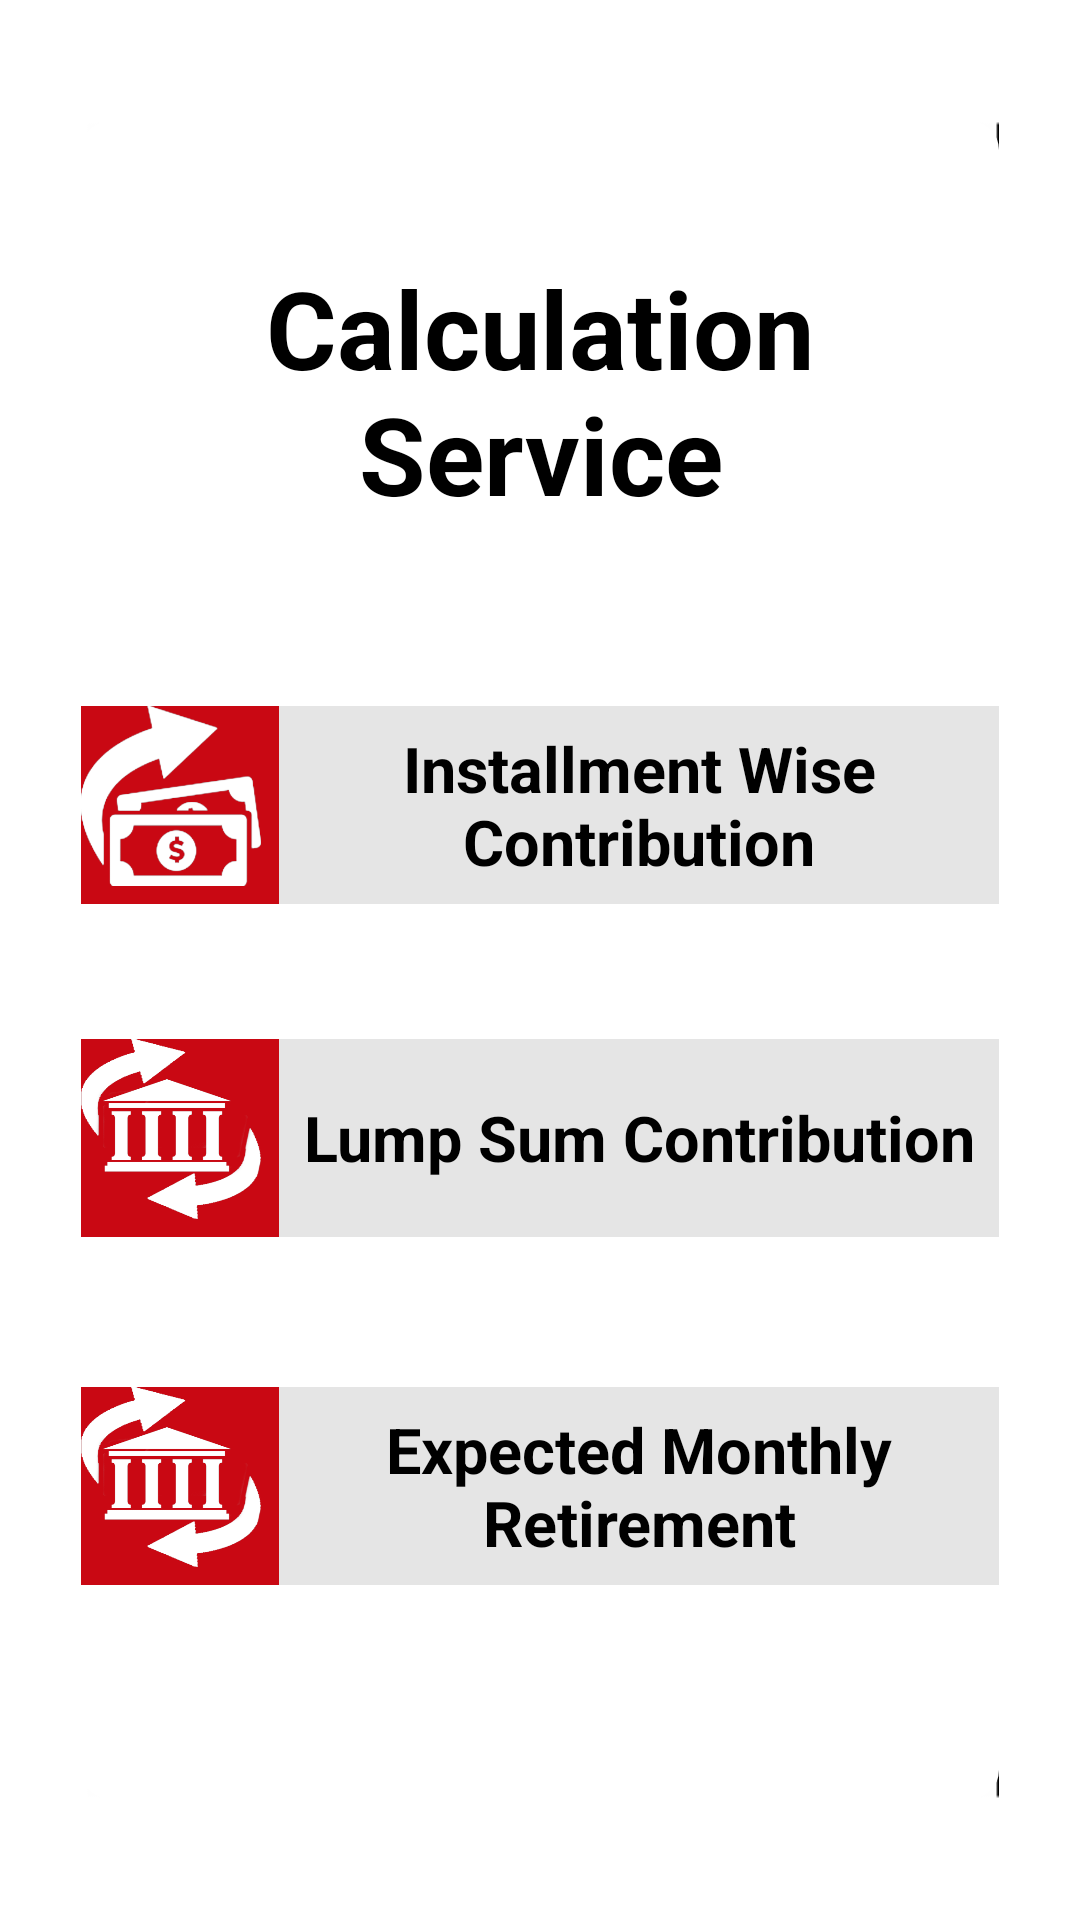

Screen size 1080 × 1920. Icon name, then its center in pixels as point (x, y):
inter branch: point (182, 1149), point (182, 1497)
money transfer: point (171, 796)
